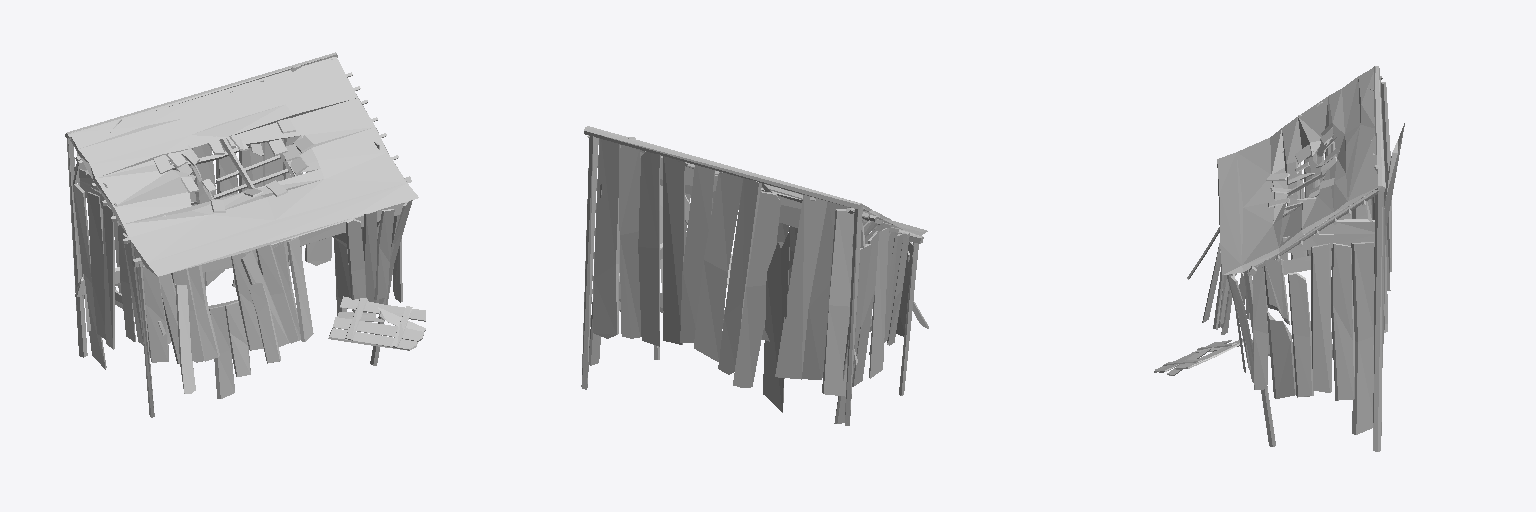
Rendered from TI_Old_Shack_Raw.obj.
3 renders of one model, left to right at view 1: azimuth 30°, elevation 25°; view 2: azimuth 150°, elevation 25°; view 3: azimuth 270°, elevation 25°, orthographic.
Visible parts, largest first — view 1: Scene; view 2: Scene; view 3: Scene.
Part boxes in pixels (bbox=[...]): Scene: bbox=[65, 52, 425, 417]; Scene: bbox=[581, 126, 928, 425]; Scene: bbox=[1154, 66, 1404, 451].
Bounding box in the file's own units: 997 × 904 × 767.